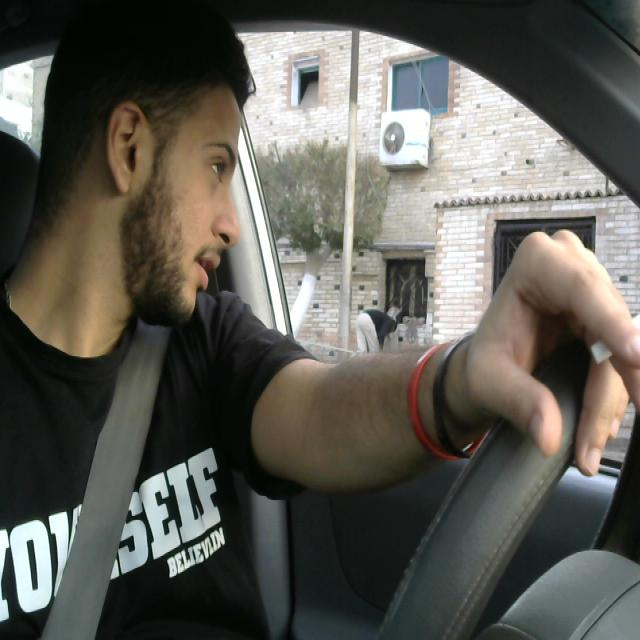smoking: (590, 298, 640, 388)
